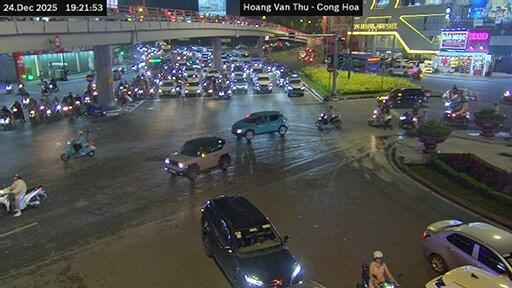motorbike: (440, 100, 469, 126), (60, 139, 95, 160), (19, 185, 45, 208), (440, 108, 469, 126), (314, 112, 341, 129), (397, 111, 419, 130), (368, 108, 390, 126), (355, 262, 368, 287), (0, 189, 12, 214), (28, 104, 41, 124), (38, 102, 51, 121), (86, 103, 105, 115), (0, 113, 12, 130), (51, 103, 63, 120), (377, 279, 399, 287), (499, 89, 511, 103), (218, 88, 230, 99), (16, 82, 25, 94), (41, 81, 49, 94), (5, 82, 12, 94), (412, 71, 422, 79)
